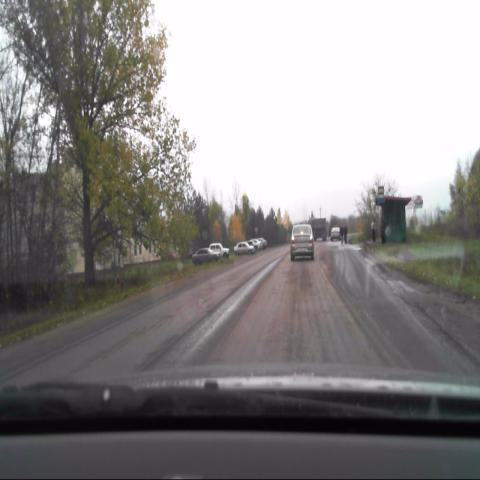5_16: (377, 184, 385, 207)
